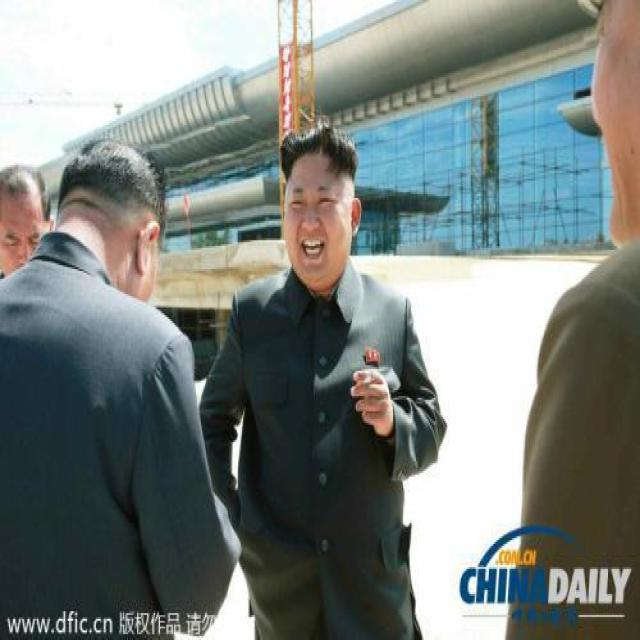no-helmet: (51, 129, 174, 300), (275, 121, 362, 292), (1, 161, 49, 271)
